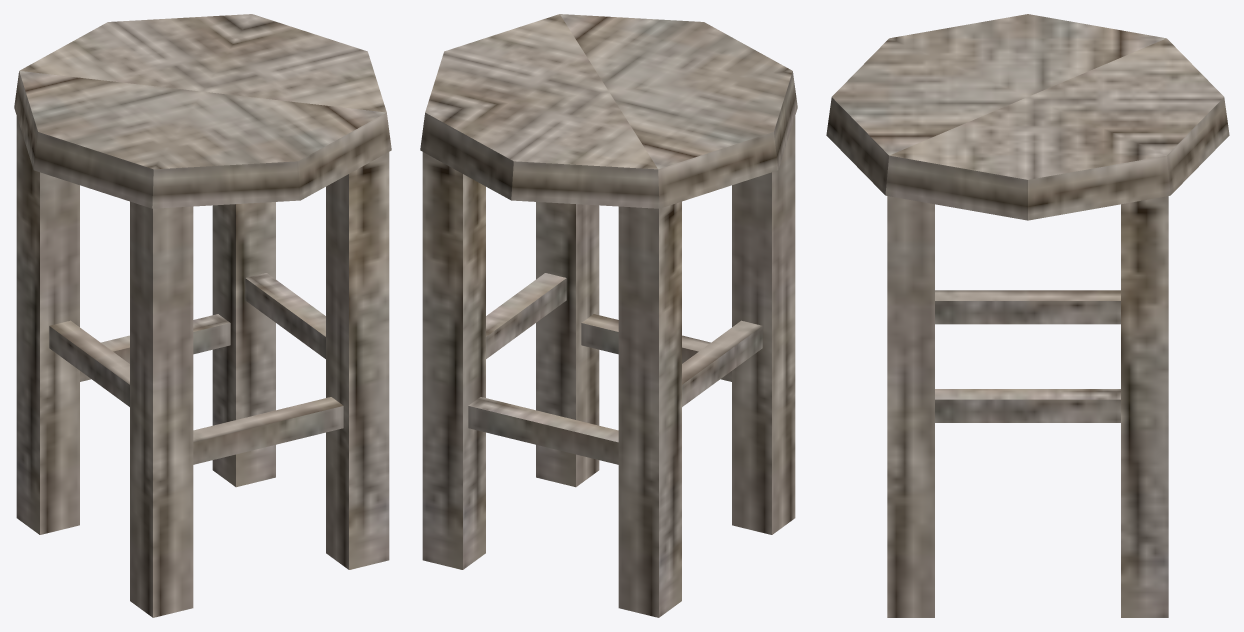
Rendered from stool_v2_tex.glb.
3 views of the same model, side by side, from view 1: azimuth 30°, elevation 25°; view 2: azimuth 150°, elevation 25°; view 3: azimuth 270°, elevation 25° (orthographic). The views are drawn at different scales.
Visible parts, largest first — view 1: stool_v2; view 2: stool_v2; view 3: stool_v2.
Part boxes in pixels (x1=…): stool_v2: x1=14, y1=14, x2=391, y2=617; stool_v2: x1=420, y1=14, x2=797, y2=617; stool_v2: x1=826, y1=14, x2=1229, y2=617.
Size of the model in its own units: 0.38 by 0.48 by 0.38.
1 material, 1 textured.
